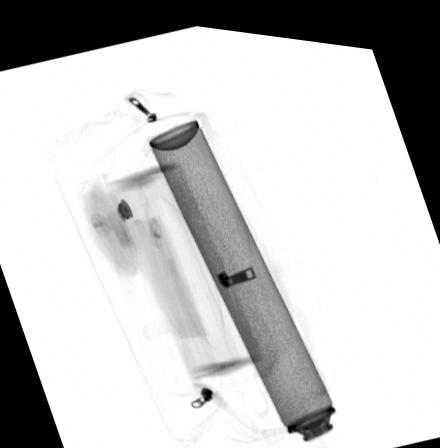Sprayer: (146, 110, 359, 448)
